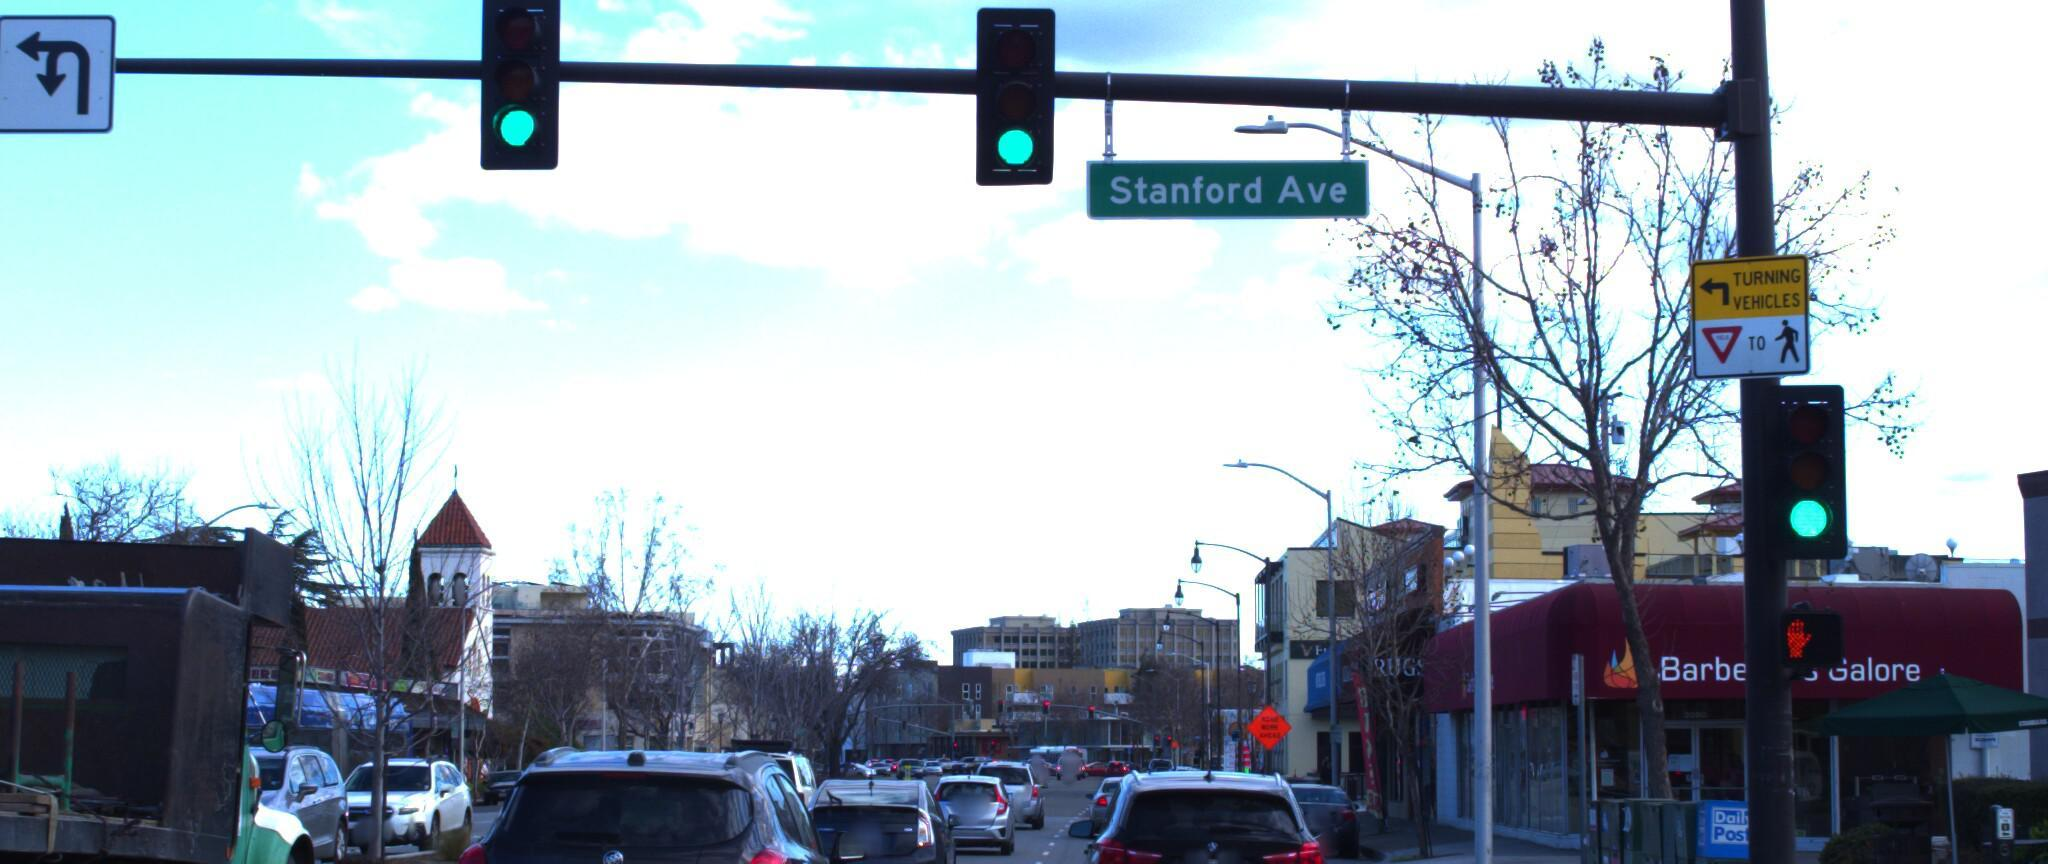car: (398, 727, 876, 864), (101, 733, 372, 864), (1063, 743, 1337, 864), (298, 735, 481, 846), (782, 752, 960, 864), (695, 719, 829, 850), (1250, 760, 1357, 842), (917, 762, 1014, 850), (986, 750, 1061, 827)
truck: (0, 363, 415, 864)
